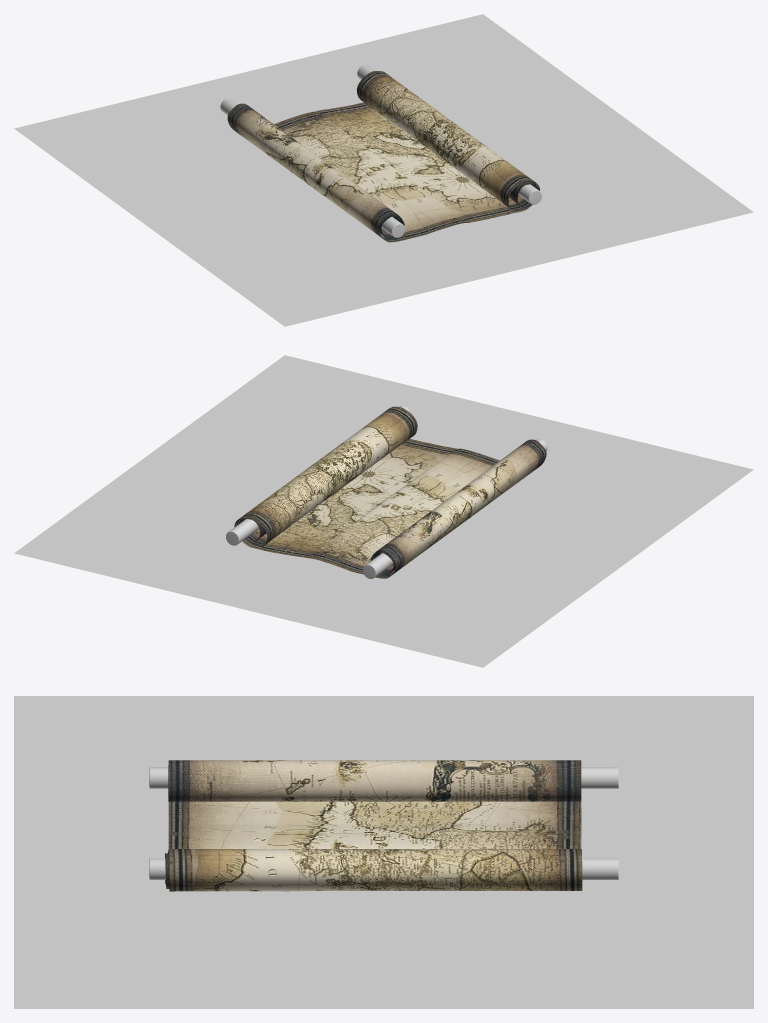
The model's file is scroll.fbx.
3 renders of one model, top to bottom at view 1: azimuth 30°, elevation 25°; view 2: azimuth 150°, elevation 25°; view 3: azimuth 270°, elevation 25°, orthographic. The views are drawn at different scales.
Parts seen in each view (by area): view 1: Plane, BezierCurve, Cylinder; view 2: Plane, BezierCurve, Cylinder.001, Cylinder; view 3: Plane, BezierCurve, Cylinder, Cylinder.001.
Part boxes in pixels (<box>): Plane: <box>14,14,753,326</box>; BezierCurve: <box>227,71,539,242</box>; Cylinder: <box>220,98,405,237</box>; Plane: <box>14,355,753,667</box>; BezierCurve: <box>234,406,546,578</box>; Cylinder.001: <box>226,406,410,545</box>; Cylinder: <box>362,439,547,578</box>; Plane: <box>14,696,753,1008</box>; BezierCurve: <box>165,760,582,891</box>; Cylinder: <box>149,767,618,788</box>; Cylinder.001: <box>149,858,618,879</box>.
Size of the model in its own units: 694 by 44.64 by 694.
